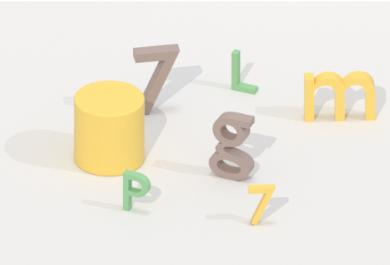0-KhoiTru: (68, 75, 150, 177)
7: (129, 37, 183, 118), (245, 178, 278, 228)
L: (226, 45, 262, 100)
P: (119, 165, 152, 214)
g: (206, 107, 261, 182)
m: (300, 66, 381, 126)
